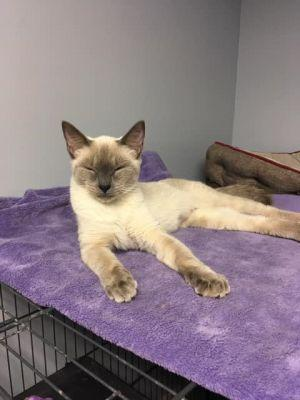siamese: (57, 115, 151, 212)
